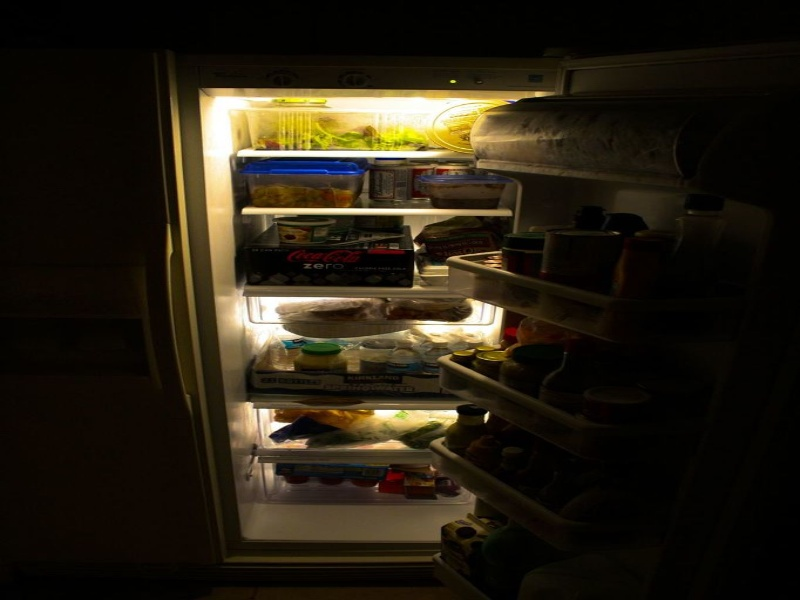refrigerator: (118, 30, 763, 600)
